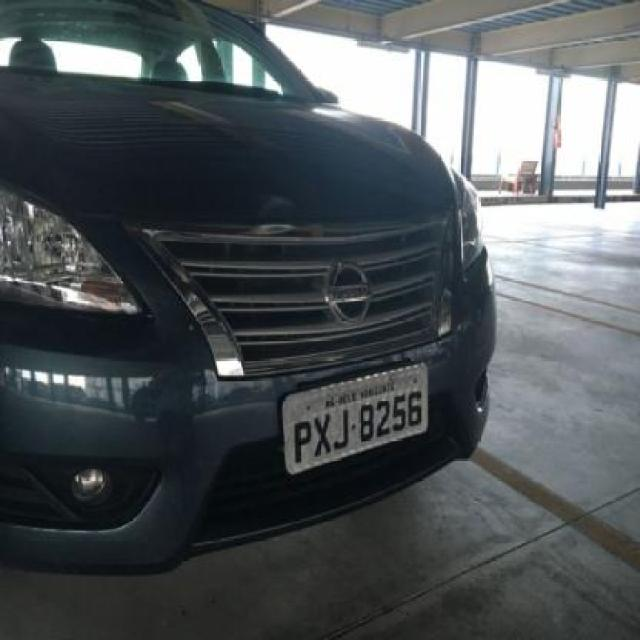old_plate: (278, 354, 435, 480)
